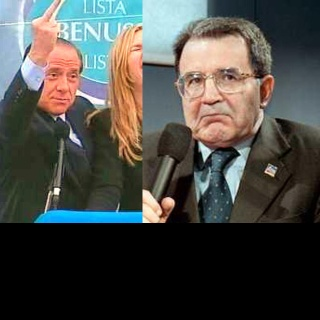without_mask: (171, 12, 276, 148), (23, 37, 83, 115)
